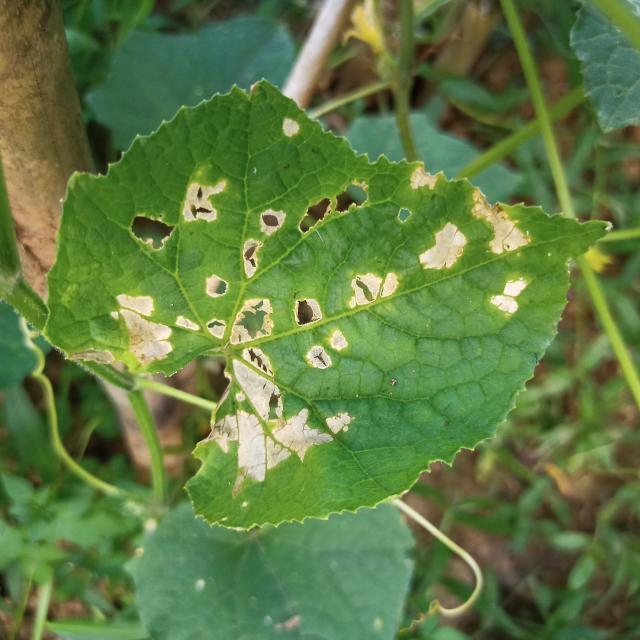disease_cucumber: (113, 176, 354, 503), (346, 146, 534, 320), (273, 113, 312, 144)
